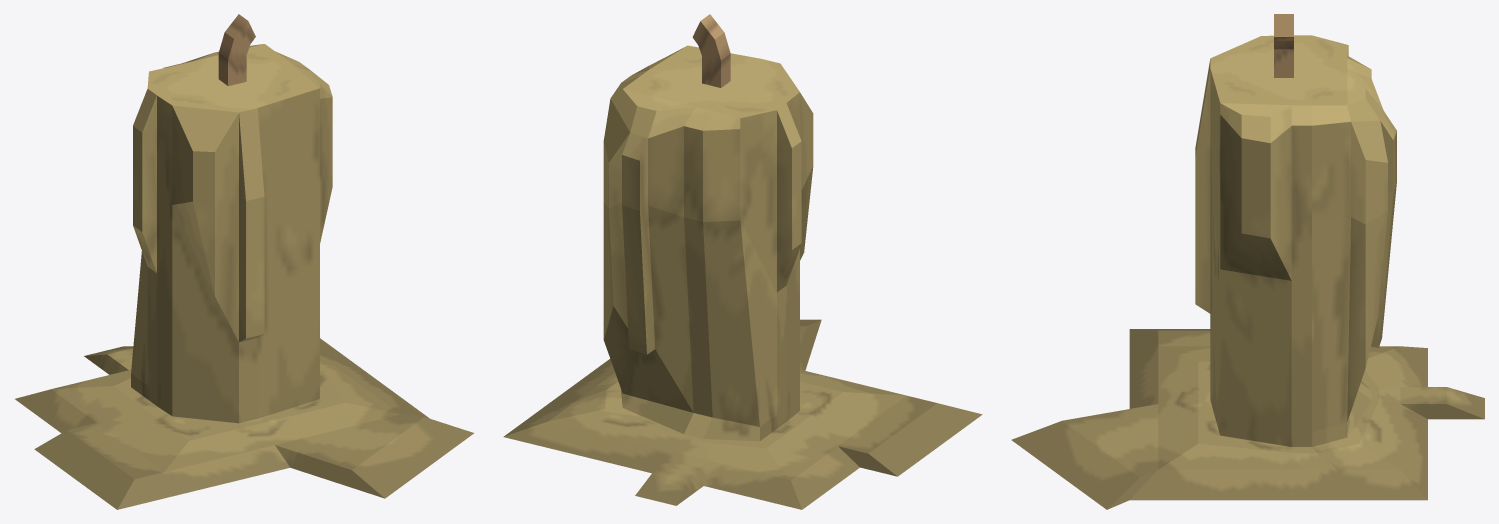
Rendered from vela.fbx.
3 renders of one model, left to right at view 1: azimuth 30°, elevation 25°; view 2: azimuth 150°, elevation 25°; view 3: azimuth 270°, elevation 25°, orthographic. The views are drawn at different scales.
Parts seen in each view (by area): view 1: Cube.002; view 2: Cube.002; view 3: Cube.002.
Boxes of the visible parts, x1=… form: Cube.002: x1=15, y1=14, x2=474, y2=509; Cube.002: x1=503, y1=14, x2=982, y2=509; Cube.002: x1=1011, y1=14, x2=1484, y2=509.
Size of the model in its own units: 18.57 by 20.02 by 20.54.
1 material, 1 textured.
